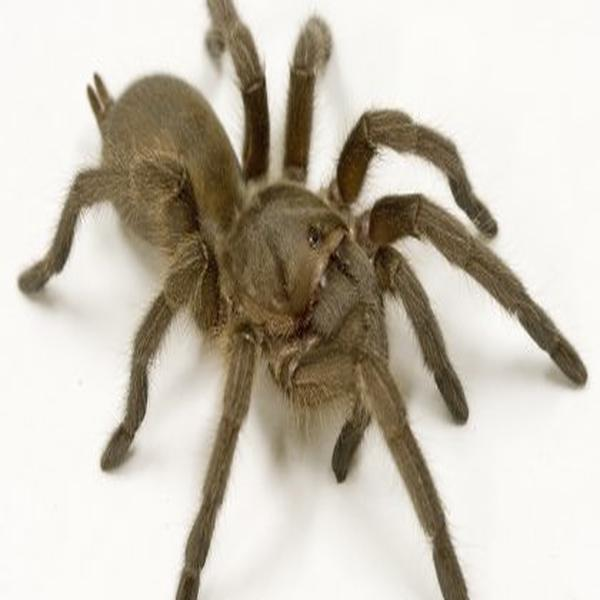Tarantula_Spider: (19, 1, 589, 600)
